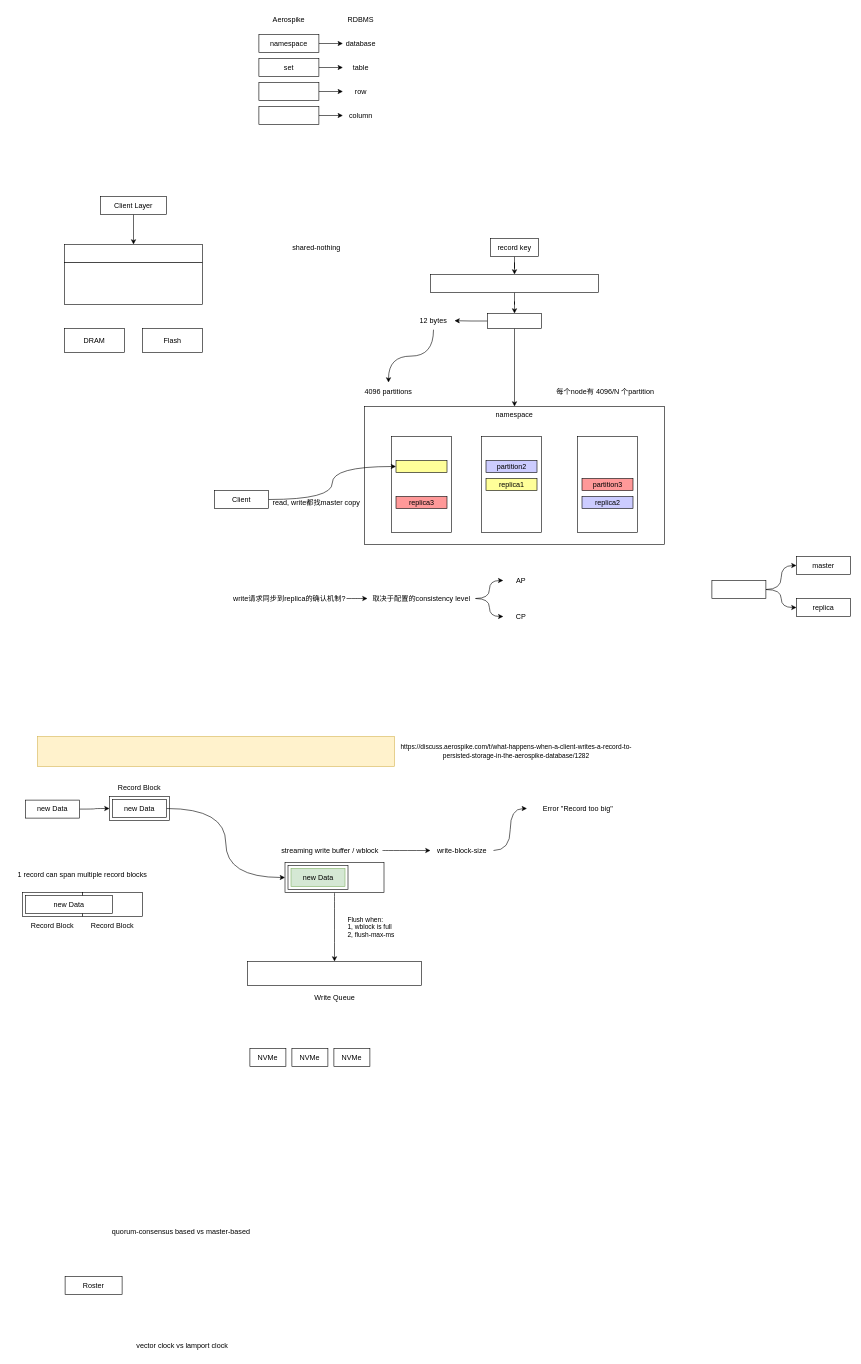
The diagram is 861 pixels wide and 1364 high, and some of its shapes have lost their labels. The shapes that lost their labels are listed below. From the top down, each one's box as (x1, y1, x2, y2) in pixels, then its label:
(258, 82, 319, 100): record
(258, 106, 319, 124): bins
(64, 244, 202, 262): Distribution Layer
(64, 262, 202, 304): Data Storage Layer
(430, 274, 598, 292): Hashing
(487, 313, 542, 328): Primary Index
(395, 460, 447, 472): partition1
(391, 436, 452, 532): node1
(481, 436, 542, 532): node2
(577, 436, 638, 532): node3
(711, 580, 766, 598): partition
(37, 736, 394, 766): Data Persistence
